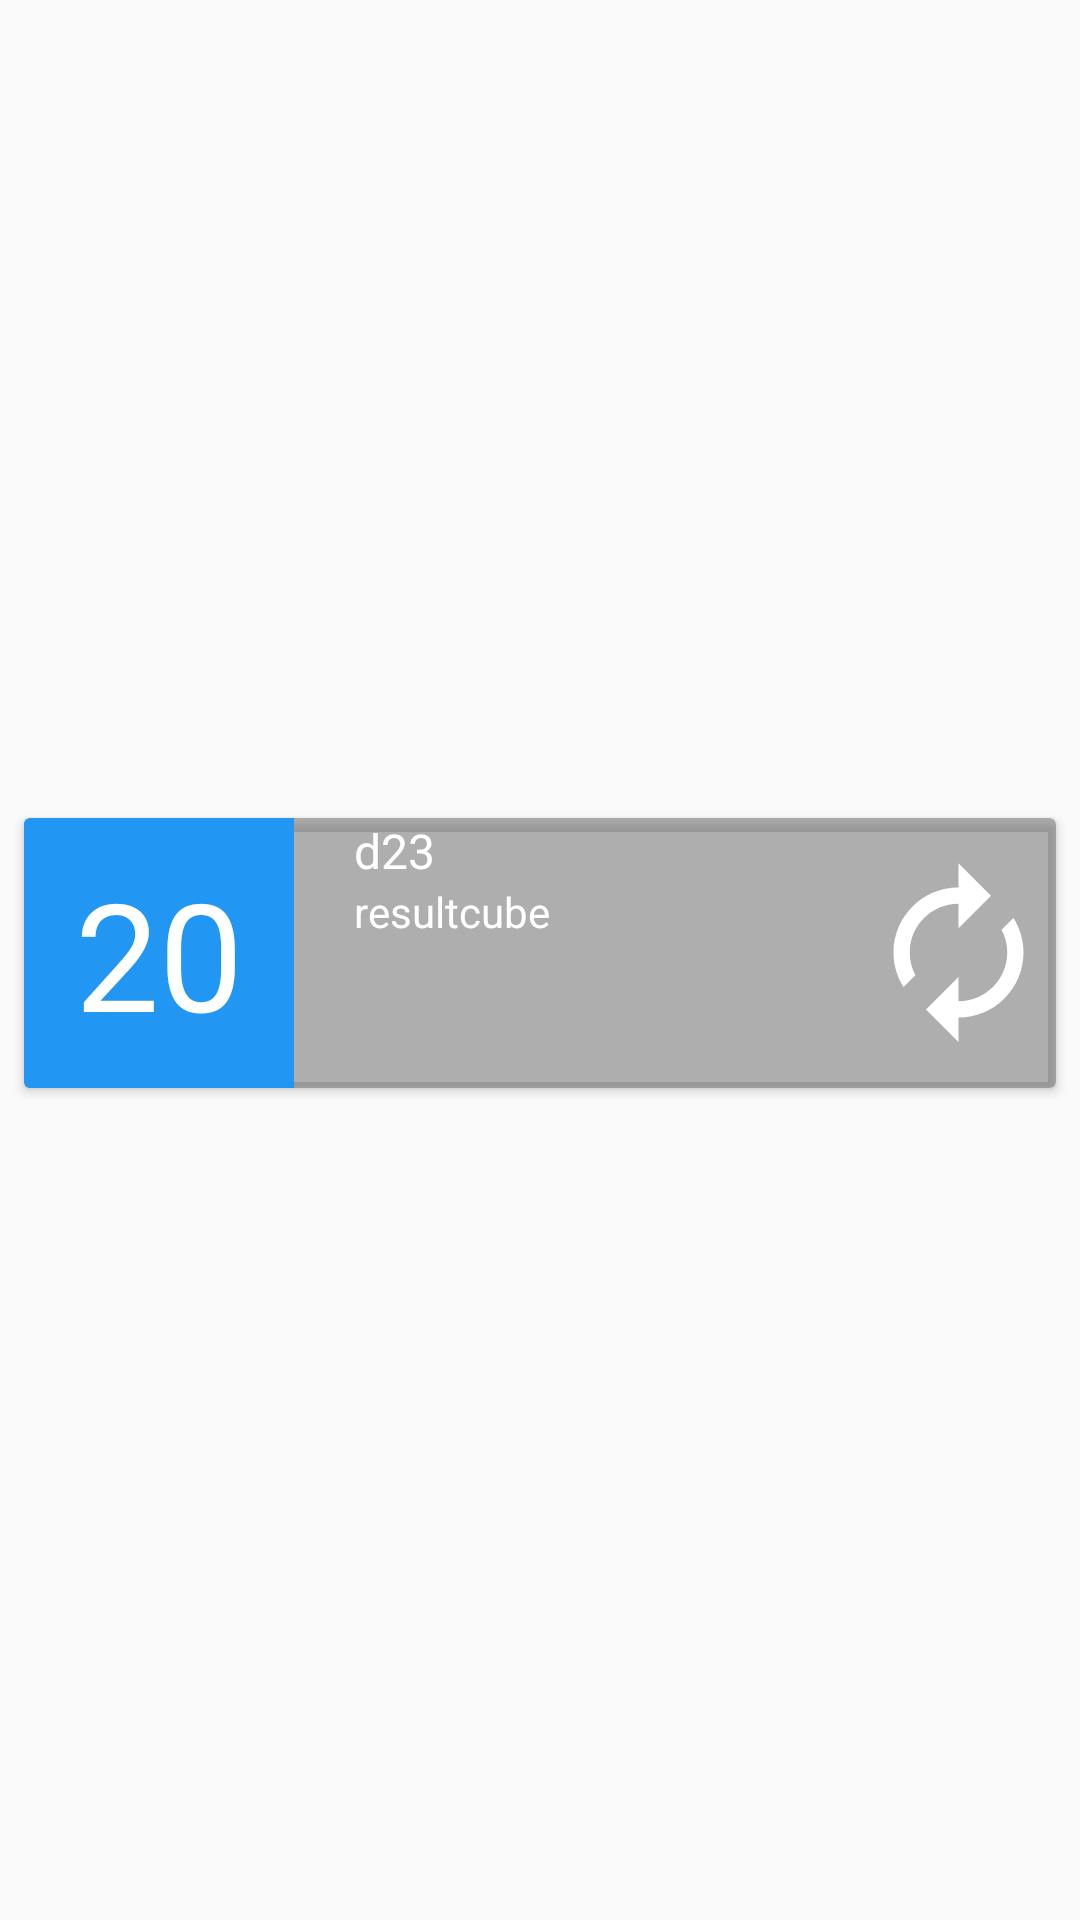

Named icons in this screenshot (1080x1920) and their bounding boxes, (x1, y1, x2, y2):
reroll item: (893, 864, 1024, 1042)
